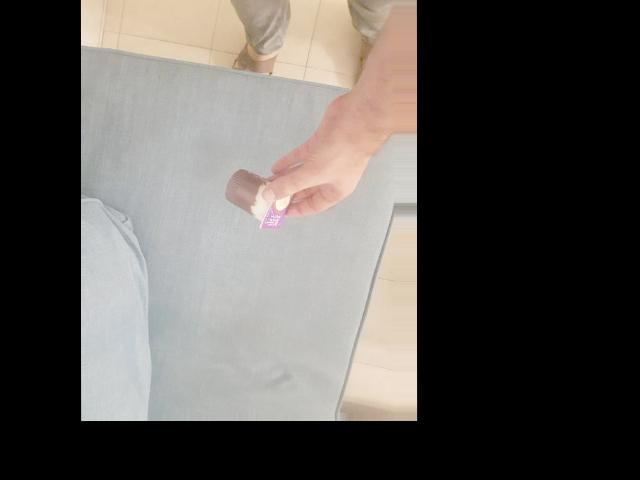milky: (139, 207, 217, 273)
